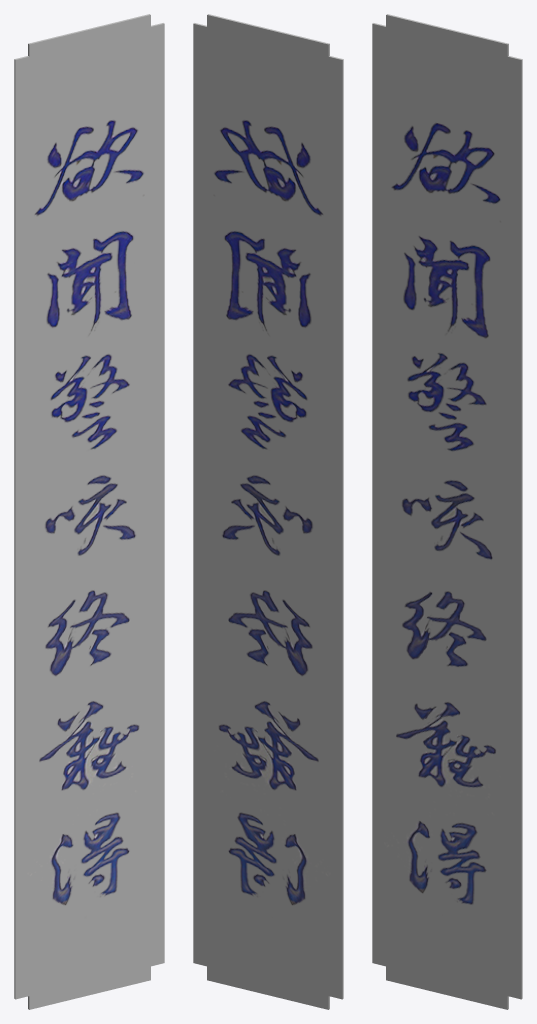
The model's file is SM_Unhyun_Noan_Joo_R001.fbx.
The picture shows the model from 3 angles, left to right: view 1: azimuth 30°, elevation 25°; view 2: azimuth 150°, elevation 25°; view 3: azimuth 330°, elevation 25°; orthographic projection.
Visible parts, largest first — view 1: SM_Unhyun_Noan_Joo_R001; view 2: SM_Unhyun_Noan_Joo_R001; view 3: SM_Unhyun_Noan_Joo_R001.
Boxes of the visible parts, left/top/right/bottom form: SM_Unhyun_Noan_Joo_R001: left=14, top=14, right=164, bottom=1009; SM_Unhyun_Noan_Joo_R001: left=193, top=14, right=343, bottom=1009; SM_Unhyun_Noan_Joo_R001: left=372, top=14, right=522, bottom=1009.
Bounding box in the file's own units: 14.56 × 90.01 × 0.2.
